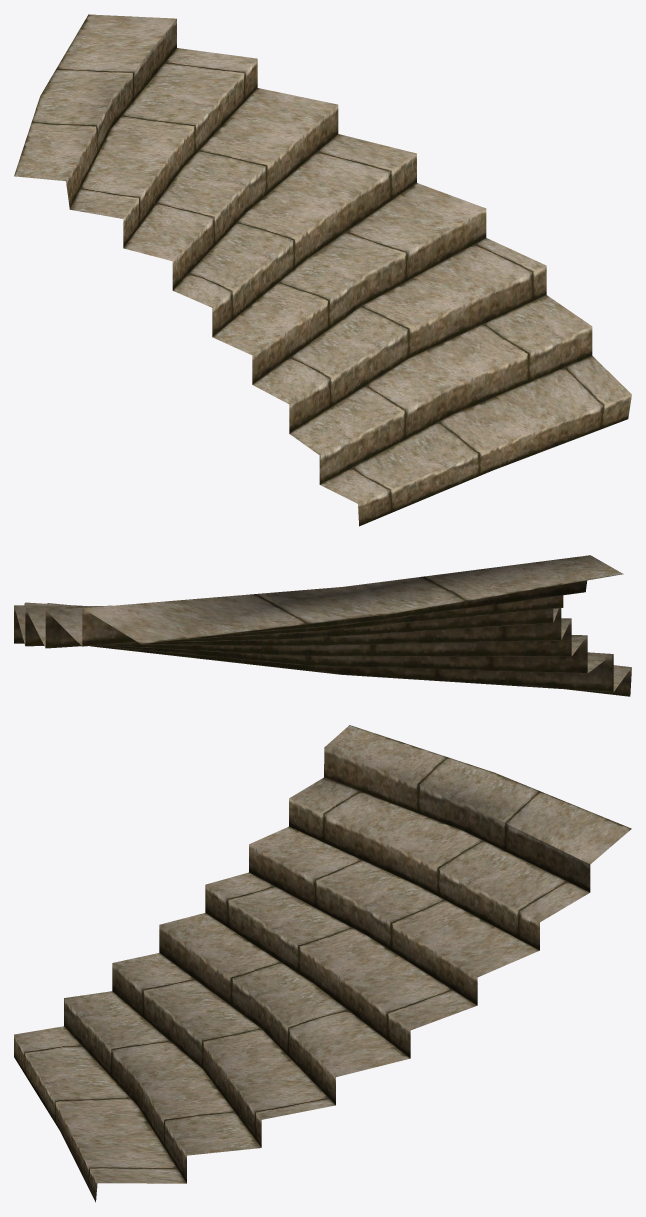
File: EKH_THRONE_PS_TH_EKH_STEP_03.fbx
3 renders of one model, top to bottom at view 1: azimuth 30°, elevation 25°; view 2: azimuth 150°, elevation 25°; view 3: azimuth 270°, elevation 25°, orthographic. The views are drawn at different scales.
Visible parts, largest first — view 1: EKH_THRONE_PS_TH_EKH_STEP_03; view 2: EKH_THRONE_PS_TH_EKH_STEP_03; view 3: EKH_THRONE_PS_TH_EKH_STEP_03.
Boxes of the visible parts, x1,y1,x2,y2 form: EKH_THRONE_PS_TH_EKH_STEP_03: [14, 14, 631, 526]; EKH_THRONE_PS_TH_EKH_STEP_03: [14, 555, 631, 696]; EKH_THRONE_PS_TH_EKH_STEP_03: [14, 725, 631, 1202].
Bounding box in the file's own units: 48845 × 24915 × 55253.
Materials: 1 (1 with a texture image).
